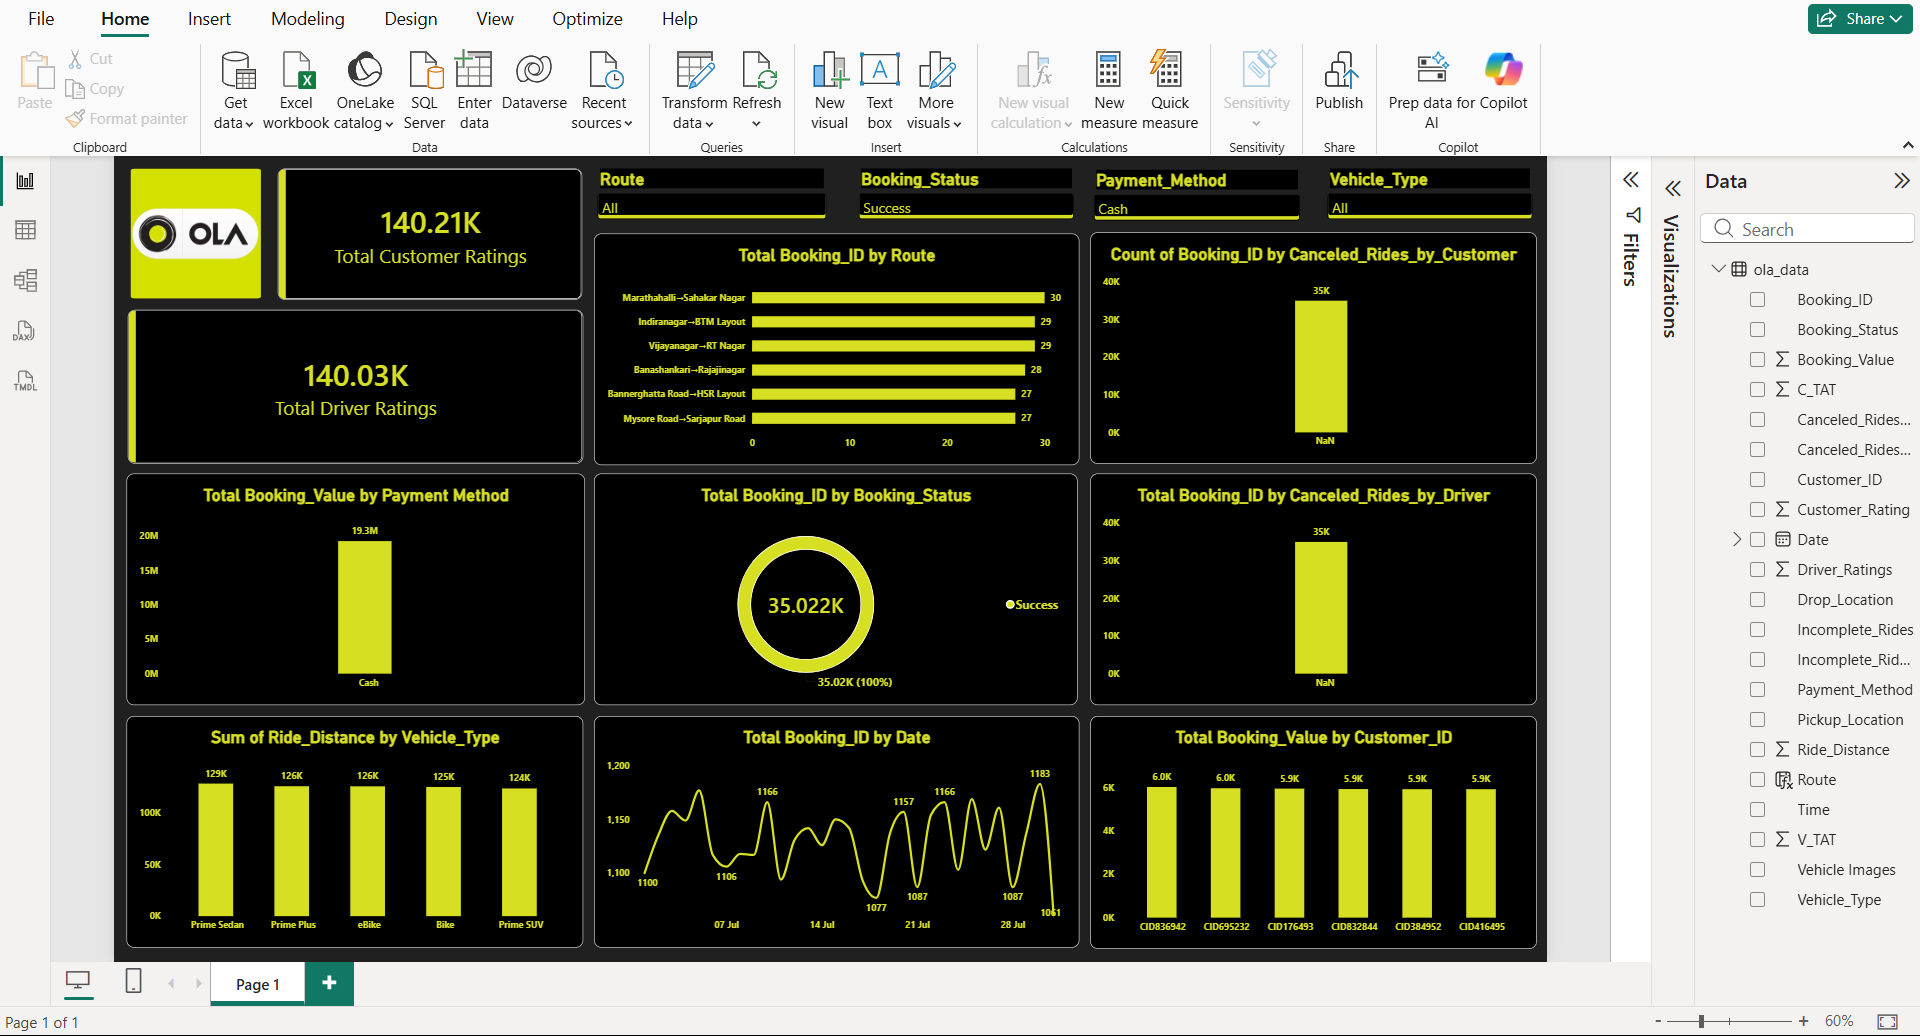

The dashboard page shown, as its layout file describes it:
{"tool":"powerbi","page":{"name":"Page 1","canvas":[1920,1080],"ordinal":0},"visuals":[{"type":"lineChart","title":"Total Booking_ID by Date","fields":{"Y":["CountNonNull(ola_data.Booking_ID)"],"Category":["ola_data.Date.Variation.Date Hierarchy.Year","ola_data.Date.Variation.Date Hierarchy.Quarter","ola_data.Date.Variation.Date Hierarchy.Month","ola_data.Date.Variation.Date Hierarchy.Day"]},"box":[644,750,650,310],"z":0},{"type":"donutChart","title":"Total Booking_ID by Booking_Status","fields":{"Category":["ola_data.Booking_Status"],"Y":["CountNonNull(ola_data.Booking_ID)"]},"box":[644,426,648,310],"z":1000},{"type":"slicer","fields":{"Values":["ola_data.Vehicle_Type"]},"box":[1622,16,284,70],"z":2000},{"type":"clusteredColumnChart","fields":{"Y":["Sum(ola_data.Ride_Distance)"],"Category":["ola_data.Vehicle_Type"]},"box":[16,750,612,310],"z":3000},{"type":"columnChart","title":"Total Booking_Value by Payment Method","fields":{"Y":["Sum(ola_data.Booking_Value)"],"Category":["ola_data.Payment_Method"]},"box":[16,426,614,310],"z":4000},{"type":"clusteredColumnChart","title":"Total Booking_Value by Customer_ID","fields":{"Y":["Sum(ola_data.Booking_Value)"],"Category":["ola_data.Customer_ID"]},"box":[1308,750,598,312],"z":5000},{"type":"cardVisual","fields":{"Data":["Sum(ola_data.Driver_Ratings)"]},"box":[18,206,610,206],"z":6000},{"type":"cardVisual","fields":{"Data":["Sum(ola_data.Customer_Rating)"]},"box":[220,16,408,176],"z":7000},{"type":"columnChart","fields":{"Category":["ola_data.Canceled_Rides_by_Customer"],"Y":["CountNonNull(ola_data.Booking_ID)"]},"box":[1308,102,598,310],"z":8000},{"type":"columnChart","title":"Total Booking_ID by Canceled_Rides_by_Driver","fields":{"Category":["ola_data.Canceled_Rides_by_Driver"],"Y":["CountNonNull(ola_data.Booking_ID)"]},"box":[1308,426,598,310],"z":9000},{"type":"slicer","fields":{"Values":["ola_data.Booking_Status"]},"box":[994,16,298,70],"z":10000},{"type":"slicer","fields":{"Values":["ola_data.Payment_Method"]},"box":[1308,18,286,70],"z":11000},{"type":"clusteredBarChart","title":"Total Booking_ID by Route","fields":{"Category":["ola_data.Route"],"Y":["CountNonNull(ola_data.Booking_ID)"]},"box":[644,104,650,310],"z":12000},{"type":"slicer","fields":{"Values":["ola_data.Route"]},"box":[644,16,316,70],"z":13000},{"type":"image","box":[18,16,182,174],"z":14000}]}

Visuals, with their boxes on the page's 1920x1080 design canvas (x1, y1, x2, y2). These are canvas units, not pixel positions in the 1920x1036 screenshot, which may show the page scaled, cropped or inside an application window:
"Total Booking_ID by Date" lineChart: l=644, t=750, r=1294, b=1060
"Total Booking_ID by Booking_Status" donutChart: l=644, t=426, r=1292, b=736
slicer - ola_data.Vehicle_Type: l=1622, t=16, r=1906, b=86
clusteredColumnChart - Sum(ola_data.Ride_Distance) x ola_data.Vehicle_Type: l=16, t=750, r=628, b=1060
"Total Booking_Value by Payment Method" columnChart: l=16, t=426, r=630, b=736
"Total Booking_Value by Customer_ID" clusteredColumnChart: l=1308, t=750, r=1906, b=1062
cardVisual - Sum(ola_data.Driver_Ratings): l=18, t=206, r=628, b=412
cardVisual - Sum(ola_data.Customer_Rating): l=220, t=16, r=628, b=192
columnChart - ola_data.Canceled_Rides_by_Customer x CountNonNull(ola_data.Booking_ID): l=1308, t=102, r=1906, b=412
"Total Booking_ID by Canceled_Rides_by_Driver" columnChart: l=1308, t=426, r=1906, b=736
slicer - ola_data.Booking_Status: l=994, t=16, r=1292, b=86
slicer - ola_data.Payment_Method: l=1308, t=18, r=1594, b=88
"Total Booking_ID by Route" clusteredBarChart: l=644, t=104, r=1294, b=414
slicer - ola_data.Route: l=644, t=16, r=960, b=86
image: l=18, t=16, r=200, b=190
